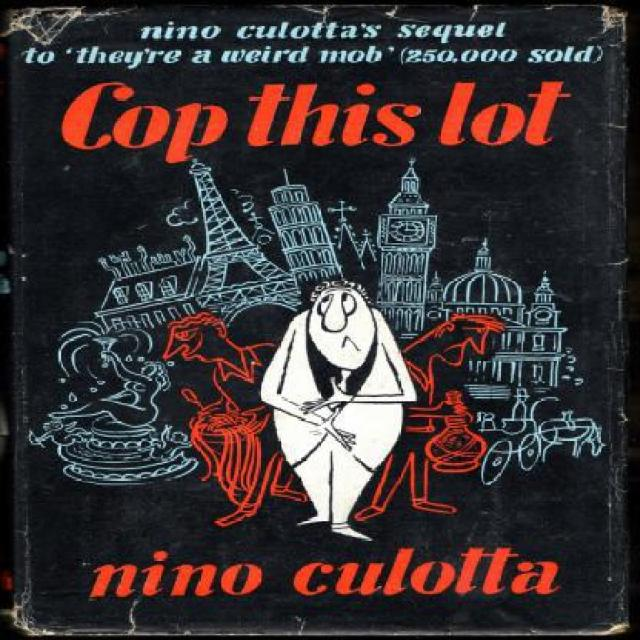Person: (259, 278, 418, 540), (157, 309, 306, 526), (354, 312, 506, 520), (51, 348, 172, 427), (510, 388, 533, 418)
